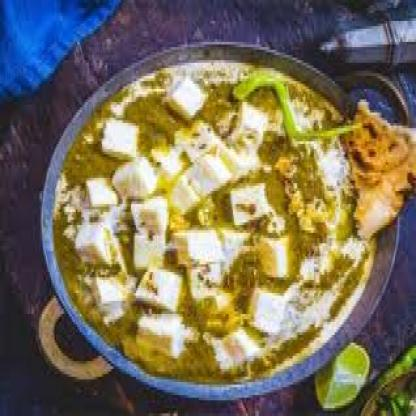palak_paneer: (53, 62, 377, 384)
